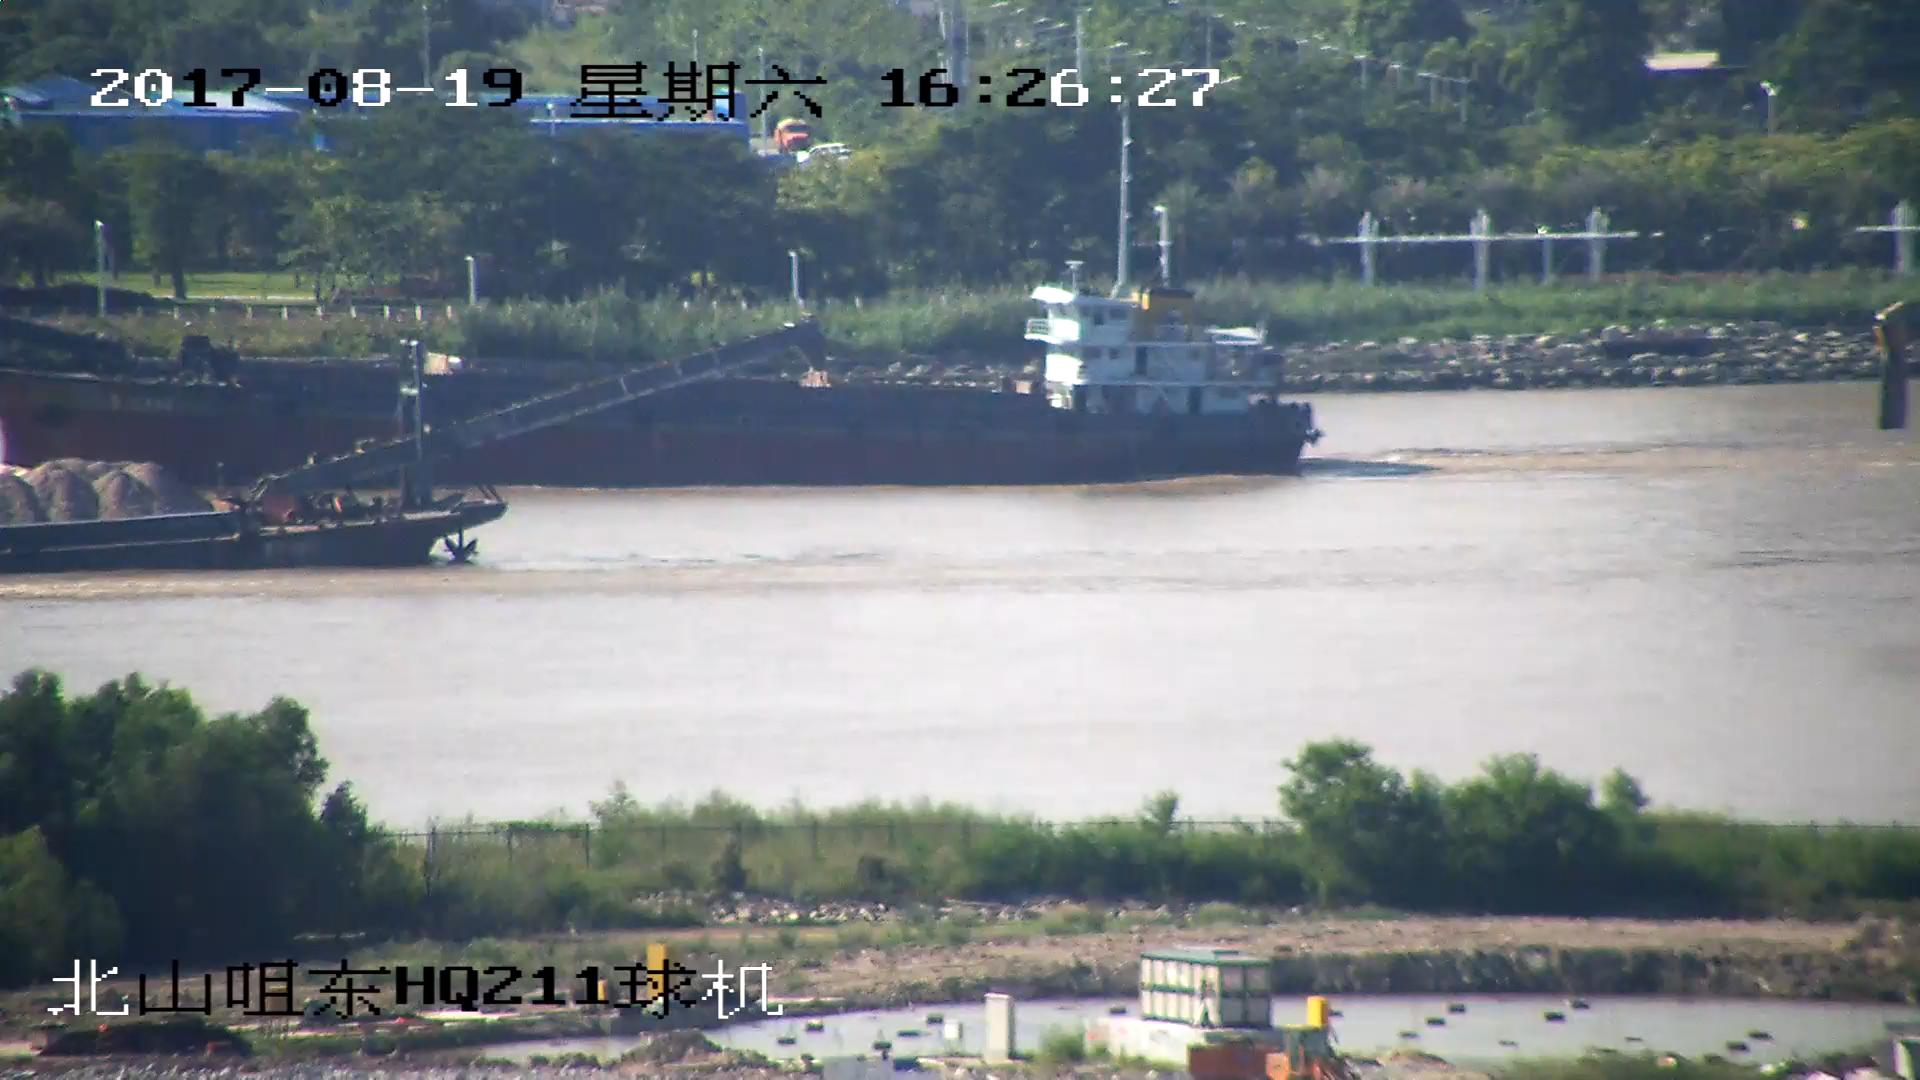bulk cargo carrier: (1, 238, 1313, 482)
ore carrier: (1, 318, 820, 576)
